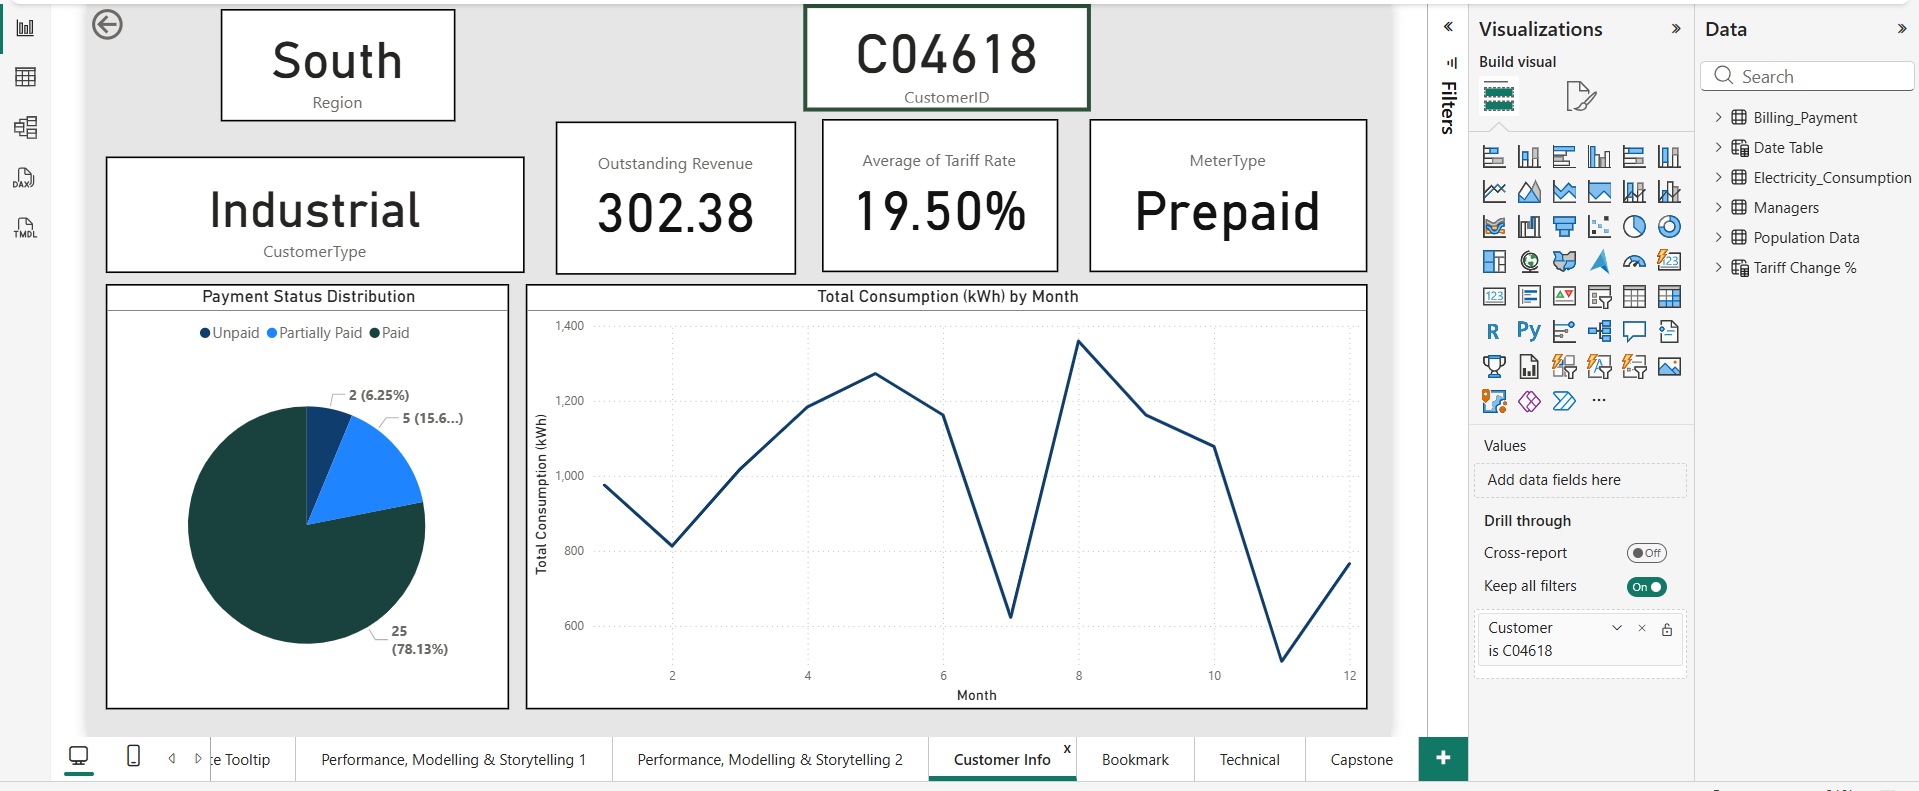

The page's visual inventory and layout, read from the dashboard file:
{"tool":"powerbi","page":{"name":"Customer Info","canvas":[1280,720],"ordinal":5},"visuals":[{"type":"actionButton","box":[0,0,100,40],"z":0},{"type":"card","fields":{"Values":["Min(Billing_Payment.CustomerID)"]},"box":[702.9,0,282.6,105.8],"z":1000},{"type":"lineChart","fields":{"Category":["Electricity_Consumption.Month"],"Y":["Sum(Electricity_Consumption.Consumption_kWh)"]},"box":[430.4,275.4,826.1,417.4],"z":2000},{"type":"cardVisual","fields":{"Data":["Min(Electricity_Consumption.MeterType)"]},"box":[984.1,113,272.5,150.7],"z":3000},{"type":"card","fields":{"Values":["Min(Electricity_Consumption.CustomerType)"]},"box":[18.8,149.3,411.6,114.5],"z":4000},{"type":"card","fields":{"Values":["Min(Electricity_Consumption.Region)"]},"box":[131.9,4.3,230.4,110.1],"z":5000},{"type":"cardVisual","fields":{"Data":["Avg(Billing_Payment.Tariff_Rate)"]},"box":[721.7,113,231.9,150.7],"z":6000},{"type":"cardVisual","fields":{"Data":["Electricity_Consumption.Outstanding Revenue"]},"box":[460,115,236.2,150],"z":7000},{"type":"pieChart","title":"Payment Status Distribution","fields":{"Category":["Billing_Payment.Payment_Status"],"Y":["CountNonNull(Billing_Payment.Payment_Status)"]},"box":[18.8,275.4,395.7,417.4],"z":8000}]}

Visuals, with their boxes on the page's 1280x720 design canvas (x1, y1, x2, y2). These are canvas units, not pixel positions in the 1919x791 screenshot, which may show the page scaled, cropped or inside an application window:
actionButton: crop(0, 0, 100, 40)
card - Min(Billing_Payment.CustomerID): crop(703, 0, 986, 106)
lineChart - Electricity_Consumption.Month x Sum(Electricity_Consumption.Consumption_kWh): crop(430, 275, 1256, 693)
cardVisual - Min(Electricity_Consumption.MeterType): crop(984, 113, 1257, 264)
card - Min(Electricity_Consumption.CustomerType): crop(19, 149, 430, 264)
card - Min(Electricity_Consumption.Region): crop(132, 4, 362, 114)
cardVisual - Avg(Billing_Payment.Tariff_Rate): crop(722, 113, 954, 264)
cardVisual - Electricity_Consumption.Outstanding Revenue: crop(460, 115, 696, 265)
"Payment Status Distribution" pieChart: crop(19, 275, 414, 693)
